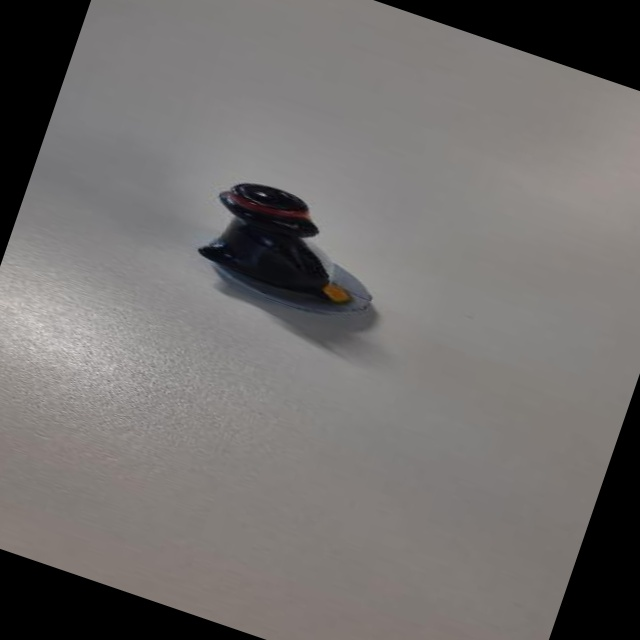Penguin: (171, 157, 412, 349)
